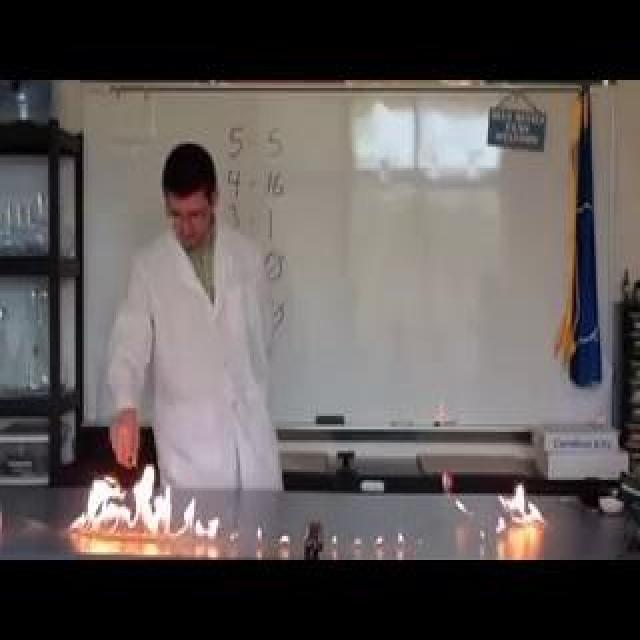Fire: (61, 456, 217, 552), (493, 478, 549, 534)
